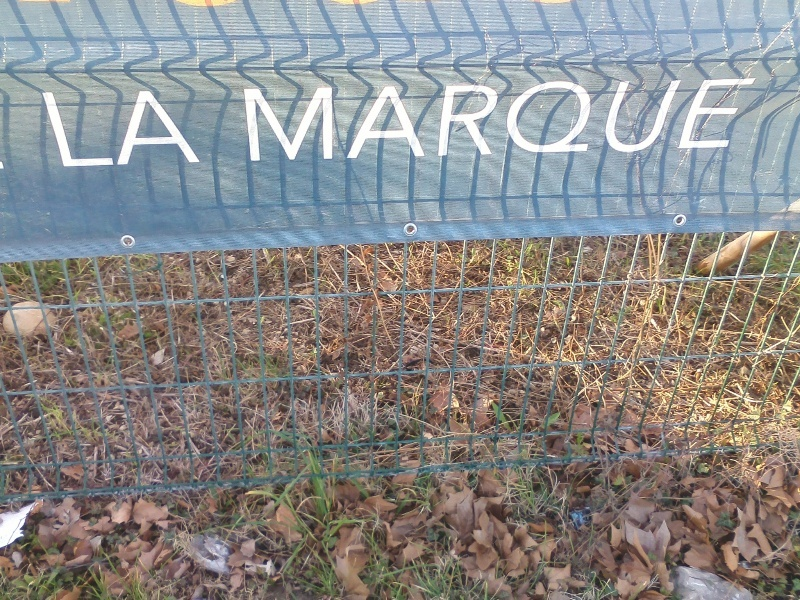text: (241, 75, 256, 162), (257, 75, 272, 162), (273, 75, 288, 162), (289, 75, 304, 162), (305, 75, 320, 162), (321, 75, 336, 162), (337, 75, 352, 162), (353, 75, 368, 162), (369, 75, 384, 162), (385, 75, 400, 162), (401, 75, 416, 162), (417, 75, 432, 162), (433, 75, 448, 162), (449, 75, 464, 162), (465, 75, 480, 162), (481, 75, 496, 162), (497, 75, 512, 162), (513, 75, 528, 162), (529, 75, 544, 162), (545, 75, 560, 162), (561, 75, 576, 162), (577, 75, 592, 162), (593, 75, 608, 162), (609, 75, 624, 162), (625, 75, 640, 162), (641, 75, 656, 162), (657, 75, 672, 162), (673, 75, 688, 162), (689, 75, 704, 162), (705, 75, 720, 162), (721, 75, 736, 162), (737, 75, 752, 162), (49, 88, 64, 170), (65, 88, 80, 170), (81, 88, 96, 170), (97, 88, 112, 170), (113, 88, 128, 170), (129, 88, 144, 170), (145, 88, 160, 170), (161, 88, 176, 170), (177, 88, 192, 170), (193, 88, 204, 170), (41, 88, 48, 170), (753, 75, 758, 162)
